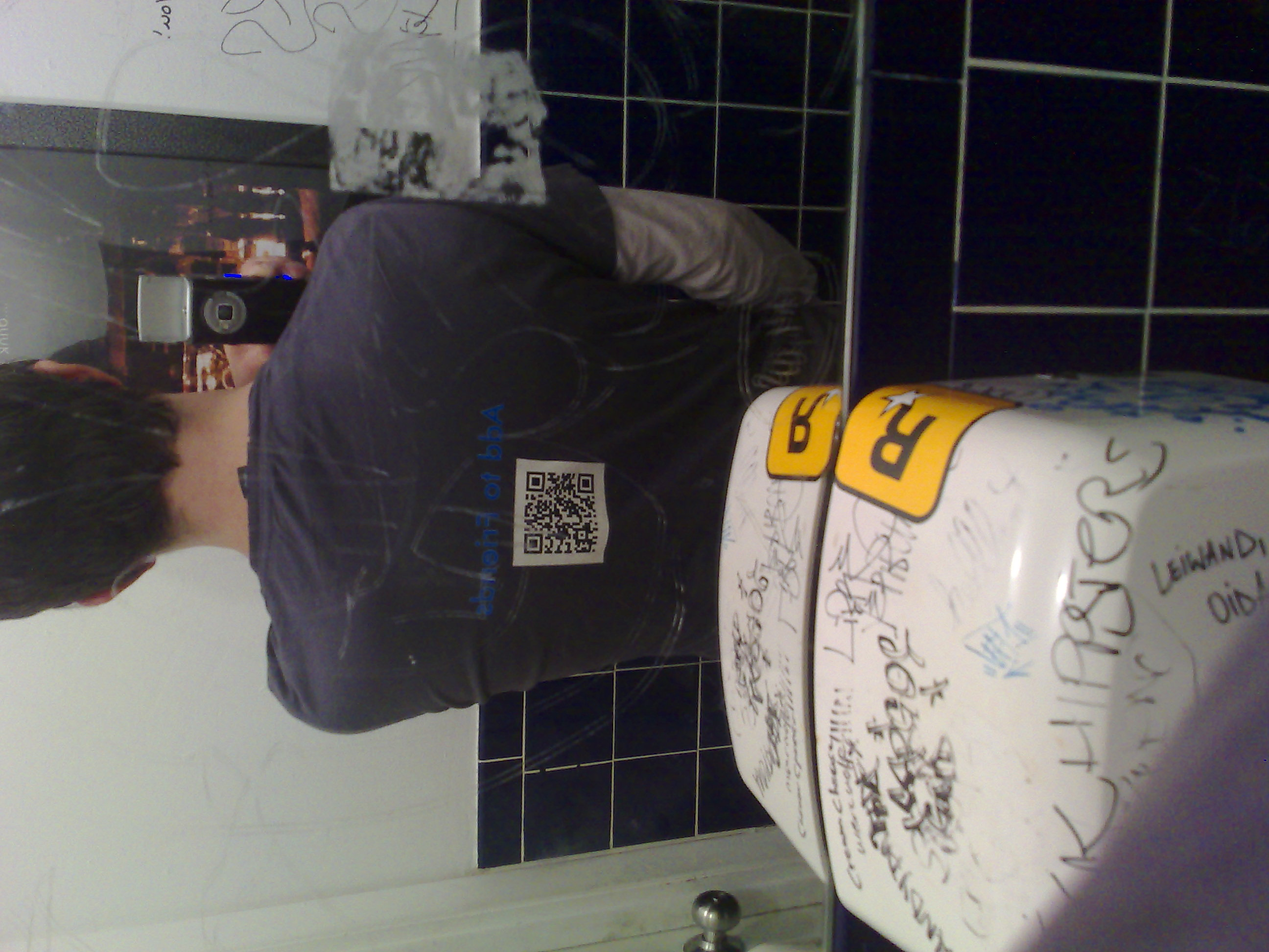QR-CODE: (524, 472, 597, 553)
